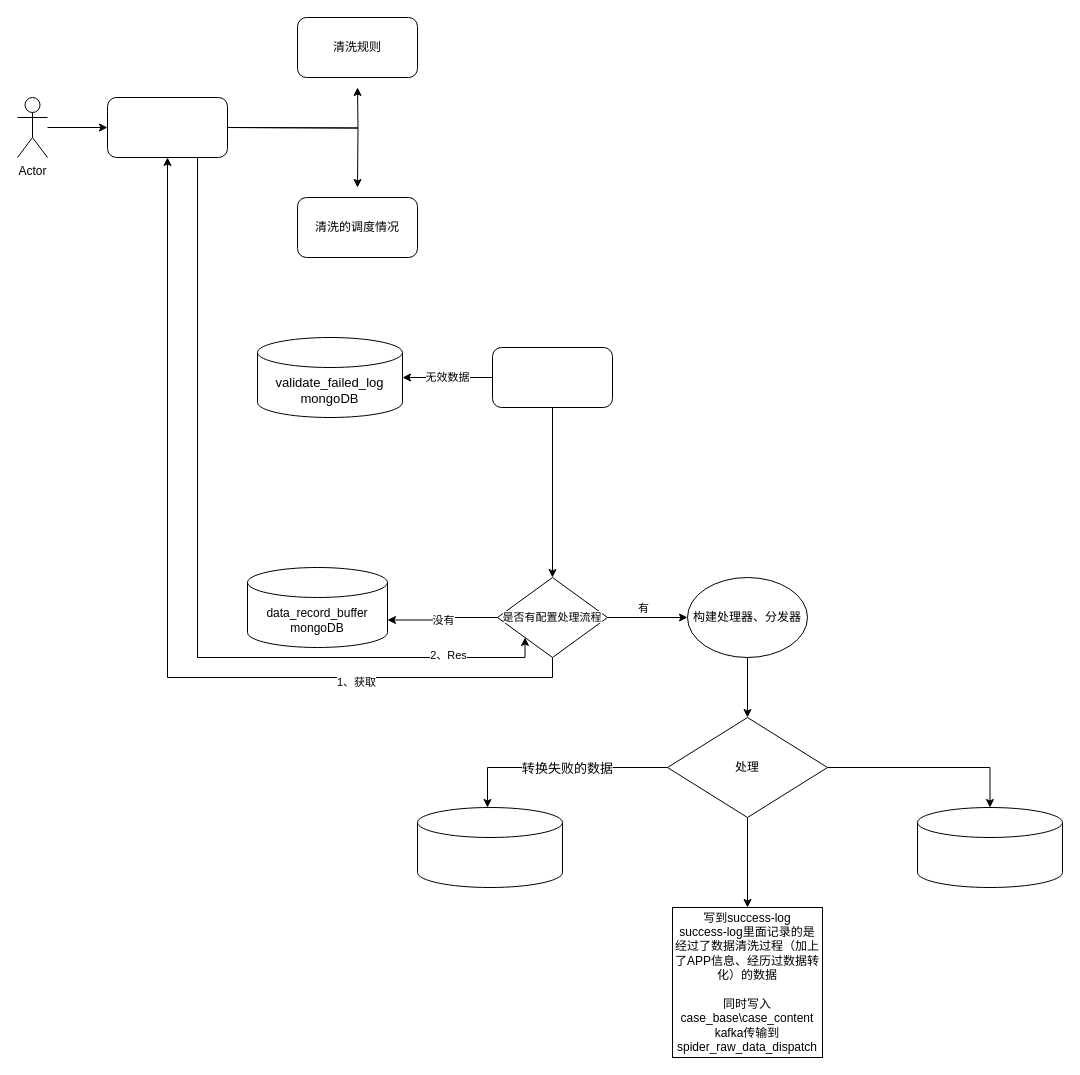
Image size: 1080x1075. Some labels were removed from this diagram. The shapes that lost their labels are listed below. From the top down, each one's centre as x and y in pixels, then its label:
At pixel 167 127: "risk_data_manage".
At pixel 552 377: "risk_spider_row_data".
At pixel 489 847: "failed_log mongoDB".
At pixel 989 847: "保留一份原始数据 output_record".
